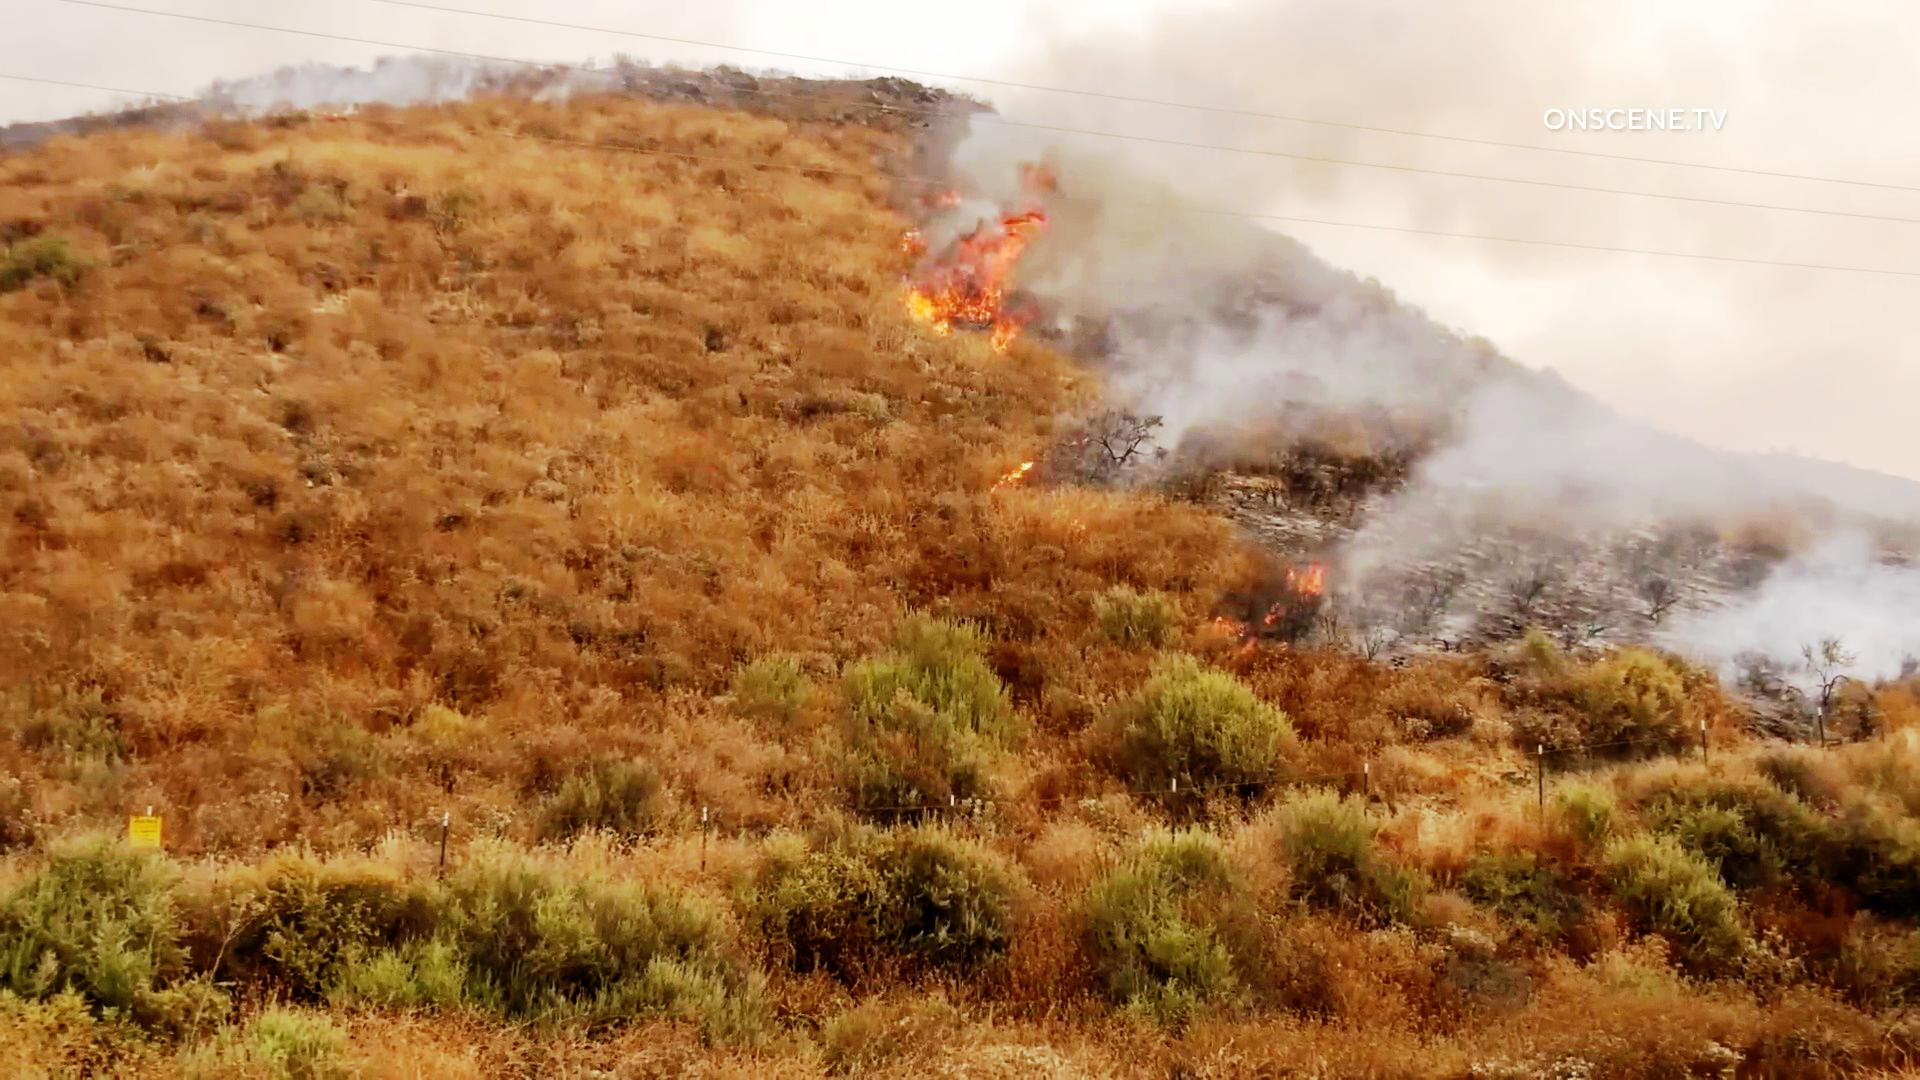fire: (915, 193, 1052, 371)
smoke: (1026, 33, 1485, 219)
